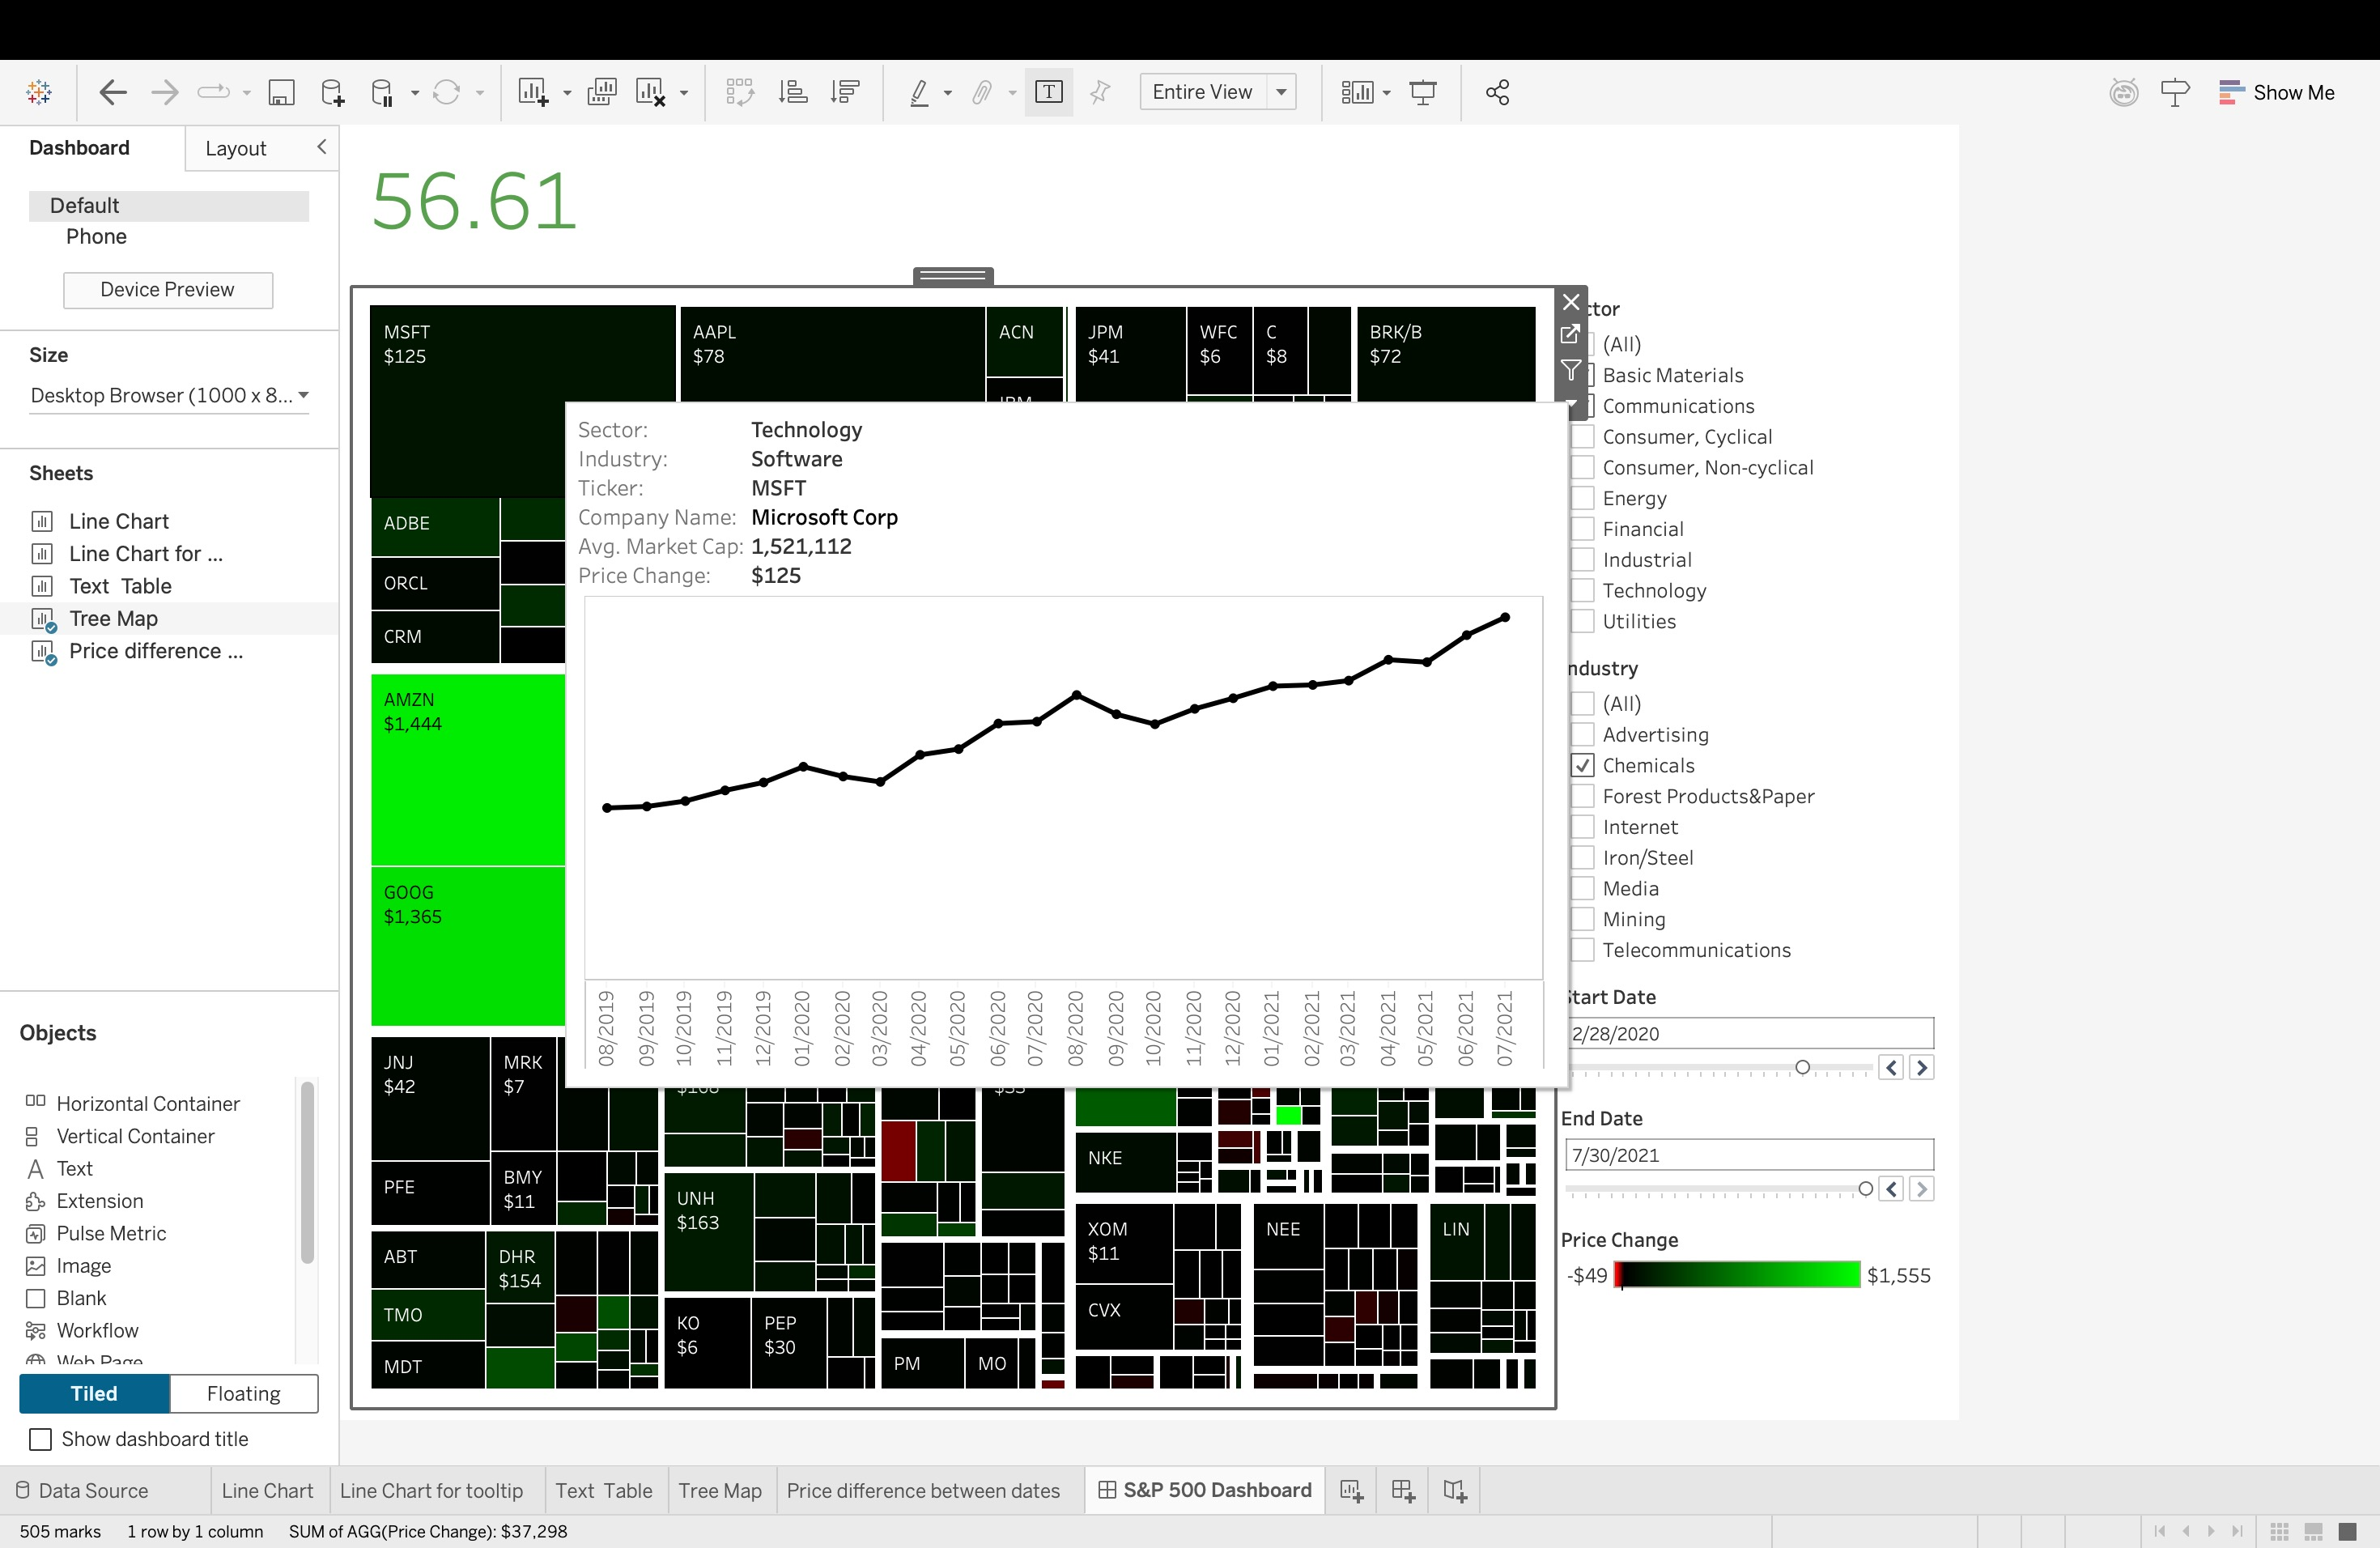

The dashboard page shown, as its layout file describes it:
{"tool":"tableau","page":{"name":"S&P 500 Dashboard","canvas":[1000,800],"ordinal":0},"visuals":[{"type":"worksheet","title":"Price difference between dates","mark":"Automatic","box":[8,8,984,93]},{"type":"worksheet","title":"Tree Map","mark":"Square","box":[8,101,742,691]},{"type":"filter","title":"Price difference between dates","param":"[federated.1dlssl01aji29d1gx9bam03133kp].[none:Sector:nk]","box":[750,101,242,222]},{"type":"filter","title":"Price difference between dates","param":"[federated.1dlssl01aji29d1gx9bam03133kp].[none:Industry:nk]","box":[750,323,242,203]},{"type":"parameter","param":"[Parameters].[Parameter 1]","box":[750,526,242,75]},{"type":"parameter","param":"[Parameters].[Parameter 2]","box":[750,601,242,75]},{"type":"legend","title":"Tree Map","param":"[federated.1dlssl01aji29d1gx9bam03133kp].[usr:Calculation_4007992616103419906:qk","box":[750,676,242,65]}]}

Visuals, with their boxes on the page's 1000x800 design canvas (x1, y1, x2, y2). These are canvas units, not pixel positions in the 2380x1548 screenshot, which may show the page scaled, cropped or inside an application window:
"Price difference between dates" worksheet: 8, 8, 992, 101
"Tree Map" worksheet (Square marks): 8, 101, 750, 792
"Price difference between dates" filter: 750, 101, 992, 323
"Price difference between dates" filter: 750, 323, 992, 526
parameter: 750, 526, 992, 601
parameter: 750, 601, 992, 676
"Tree Map" legend: 750, 676, 992, 741
